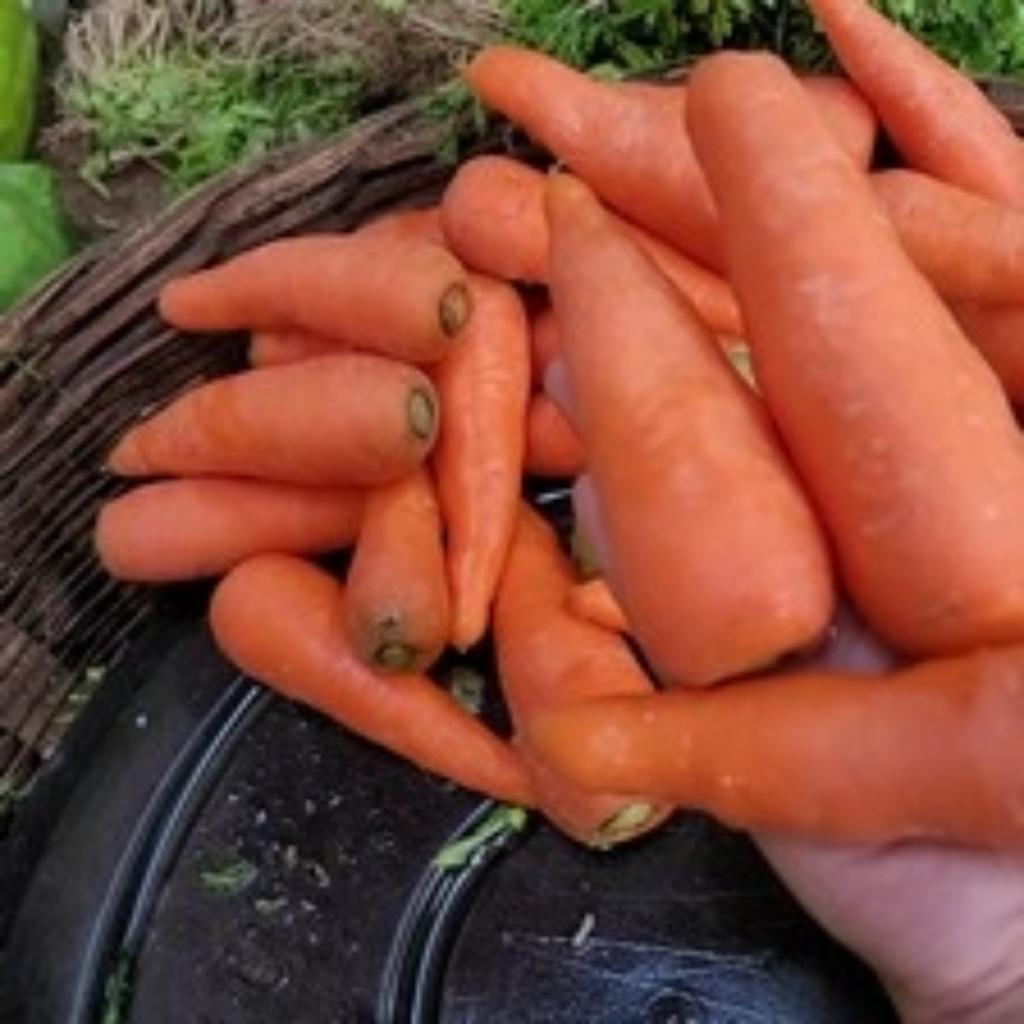carrot: (96, 0, 1015, 864), (416, 594, 512, 741), (750, 581, 896, 672), (512, 457, 599, 581)
